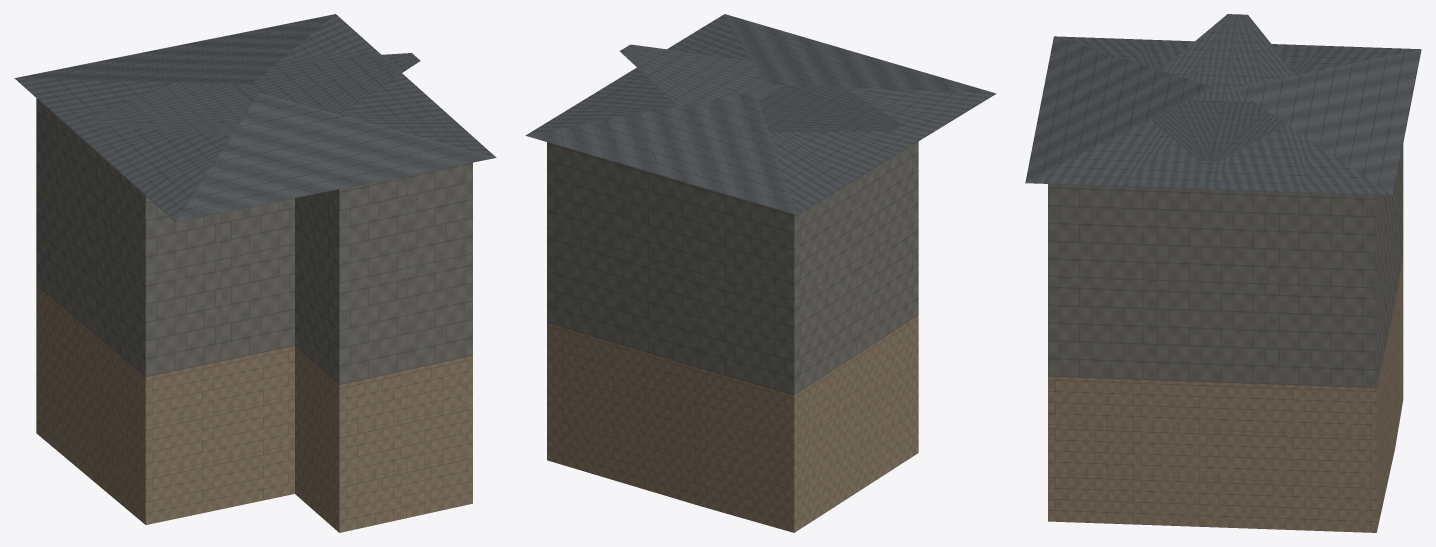
File: bld_c41_33_281.gltf
The picture shows the model from 3 angles, left to right: view 1: azimuth 30°, elevation 25°; view 2: azimuth 150°, elevation 25°; view 3: azimuth 270°, elevation 25°; orthographic projection. The views are drawn at different scales.
Parts seen in each view (by area): view 1: bld_c41_33_281; view 2: bld_c41_33_281; view 3: bld_c41_33_281.
Part boxes in pixels (x1=…): bld_c41_33_281: x1=14, y1=14, x2=496, y2=532; bld_c41_33_281: x1=525, y1=14, x2=996, y2=532; bld_c41_33_281: x1=1025, y1=14, x2=1421, y2=532.
Size of the model in its own units: 12.03 by 13.1 by 12.63.
Materials: 3 (3 with a texture image).
